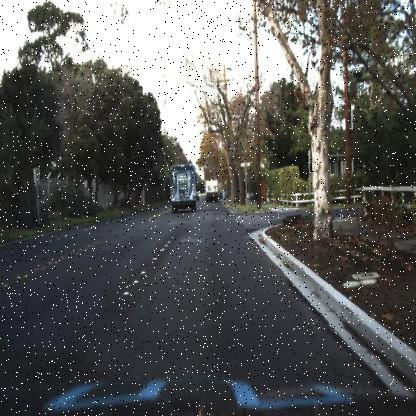truck: (168, 159, 198, 219), (203, 176, 221, 204)
